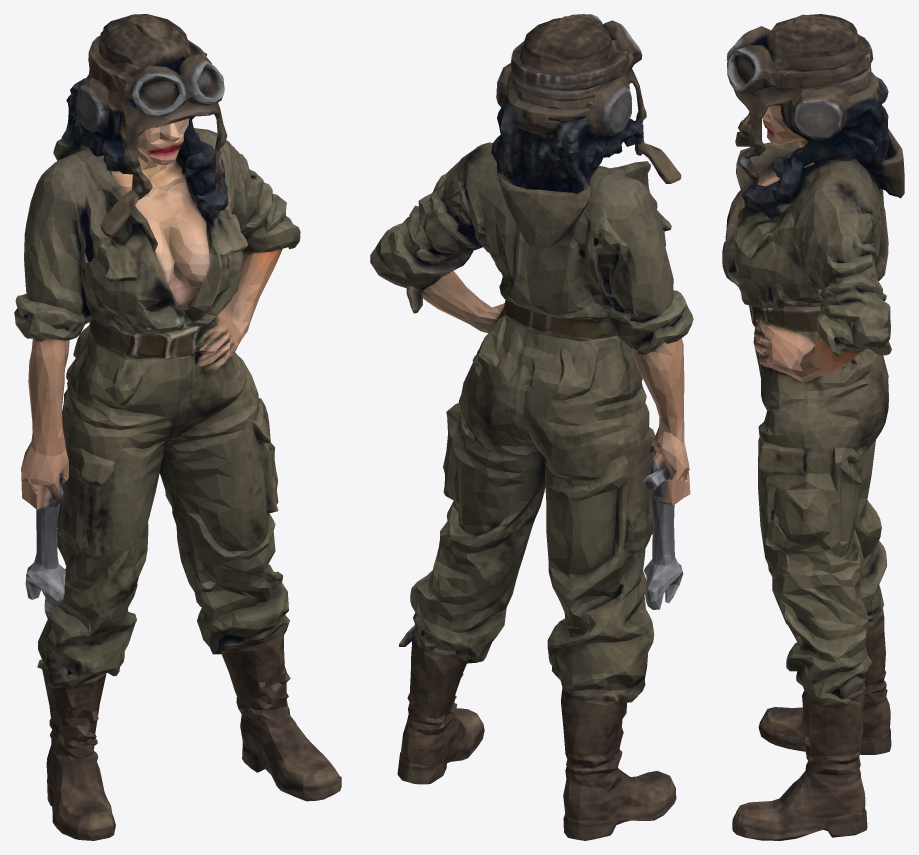
File: crew_us_driver_4.obj
3 views of the same model, side by side, from view 1: azimuth 30°, elevation 25°; view 2: azimuth 150°, elevation 25°; view 3: azimuth 270°, elevation 25° (orthographic). The views are drawn at different scales.
Visible parts, largest first — view 1: crew_us_driver_4; view 2: crew_us_driver_4; view 3: crew_us_driver_4.
Part boxes in pixels (box(x1,y1,x2,y2)): crew_us_driver_4: box(14, 14, 341, 840); crew_us_driver_4: box(370, 14, 693, 840); crew_us_driver_4: box(722, 14, 904, 840).
Size of the model in its own units: 0.6448 by 1.68 by 0.369.
Materials: 1 (1 with a texture image).
